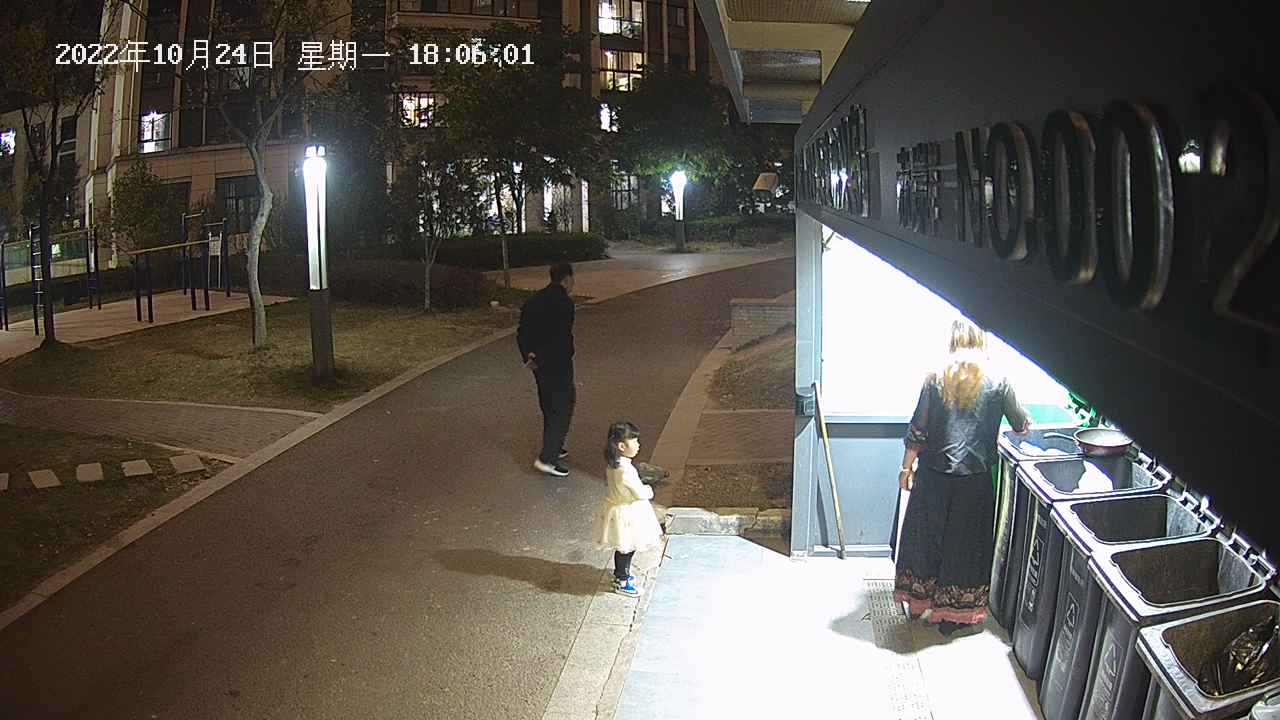person: (888, 313, 1035, 638), (514, 260, 582, 477), (594, 421, 665, 591)
